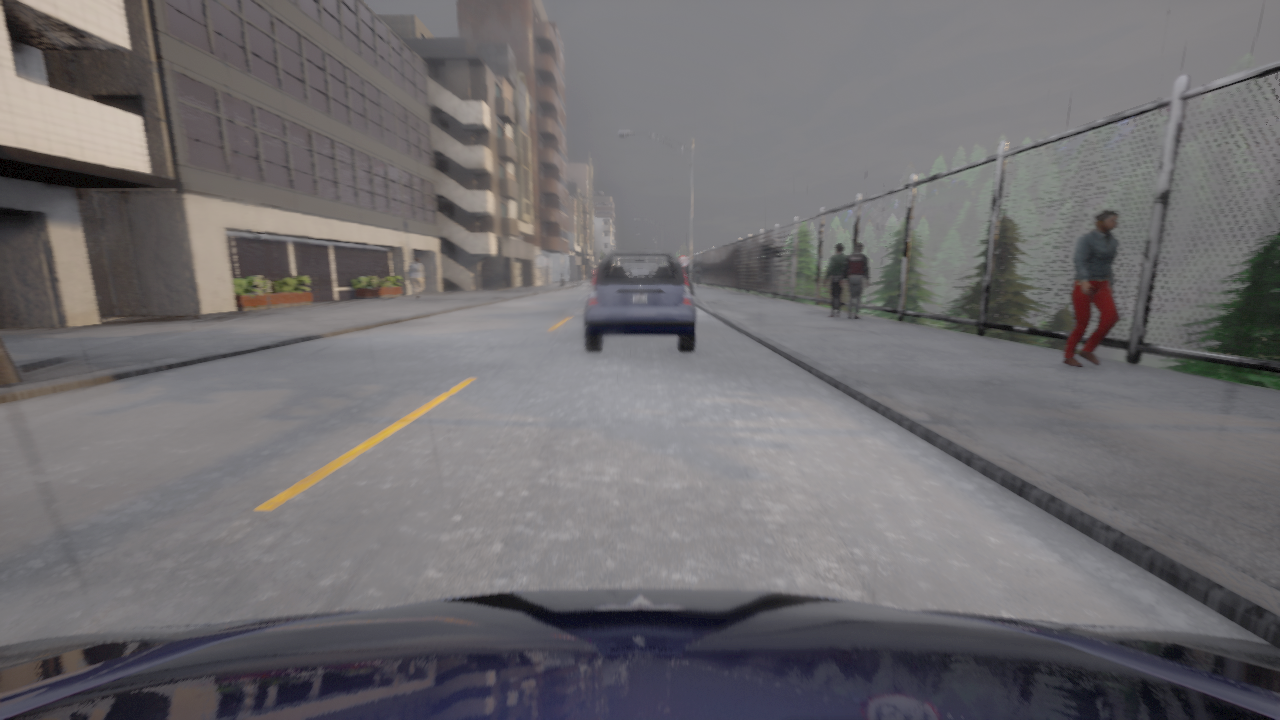cyclist: (0, 588, 1279, 719), (584, 249, 695, 351)
pedestrian: (1061, 208, 1121, 366), (407, 257, 424, 298), (693, 264, 701, 287)
